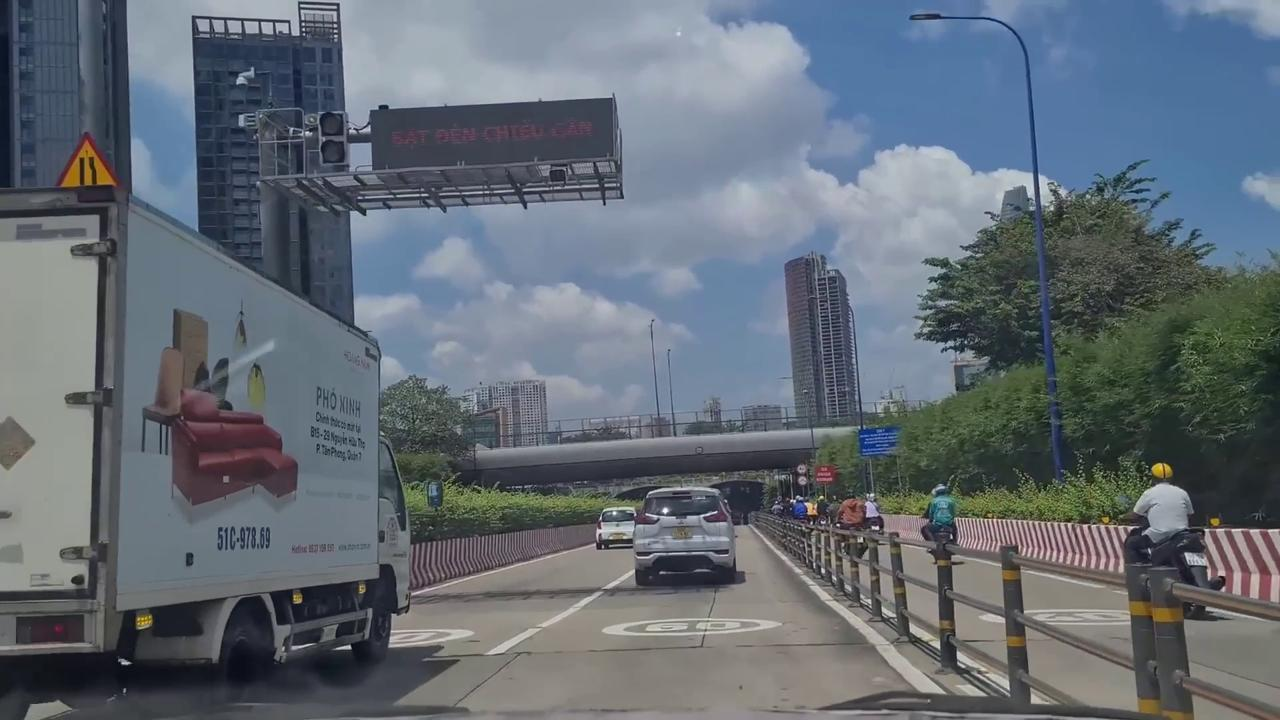Đuờng hẹp: (51, 131, 125, 198)
